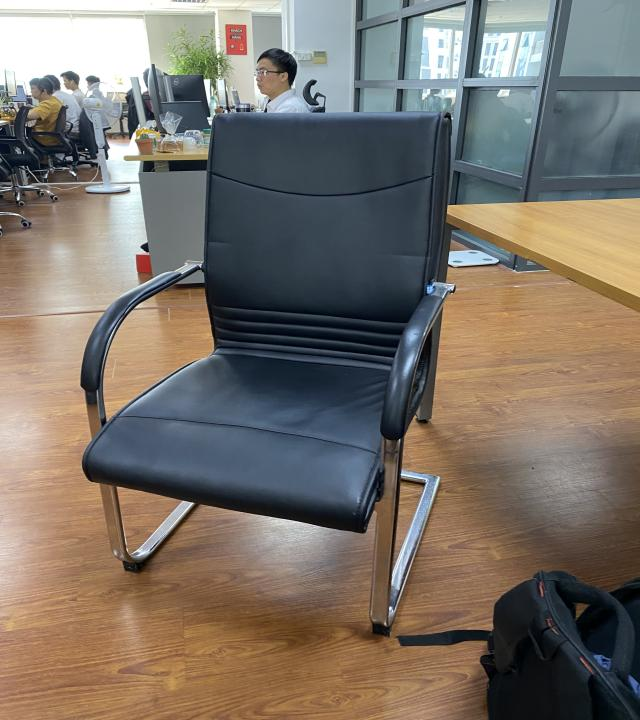SS_03: (77, 109, 457, 639)
